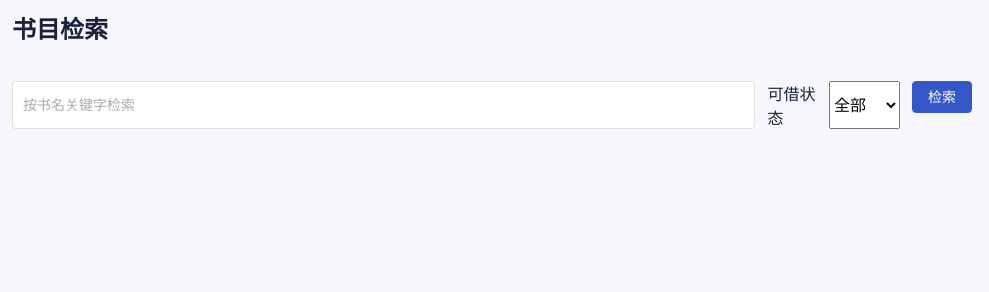
Test: PortalView › appends more rows when a next cursor exists
Step 1. Submit the form with test id "portal-search-form", box [12,81,972,129]
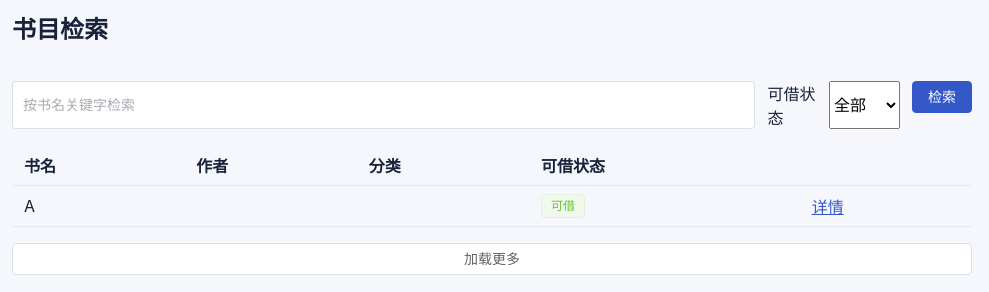
Check: the button with test id "portal-load-more" is shown
Step 2. Click the button with test id "portal-load-more" → x=492, y=259, box [12,243,972,275]
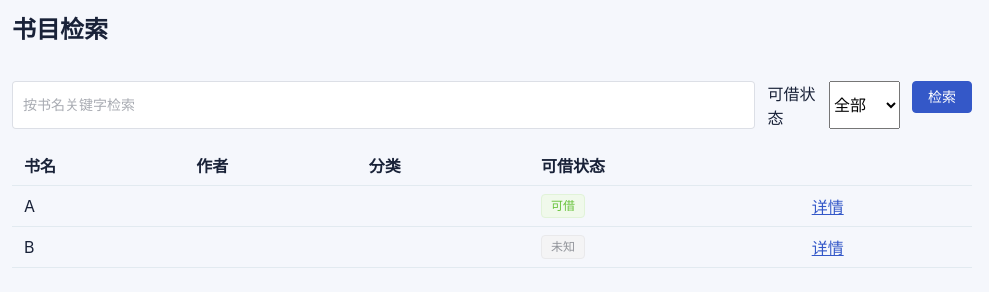
Check: the text "A" is shown, box [12,185,184,226]
Check: the text "B" is shown, box [12,226,184,267]
